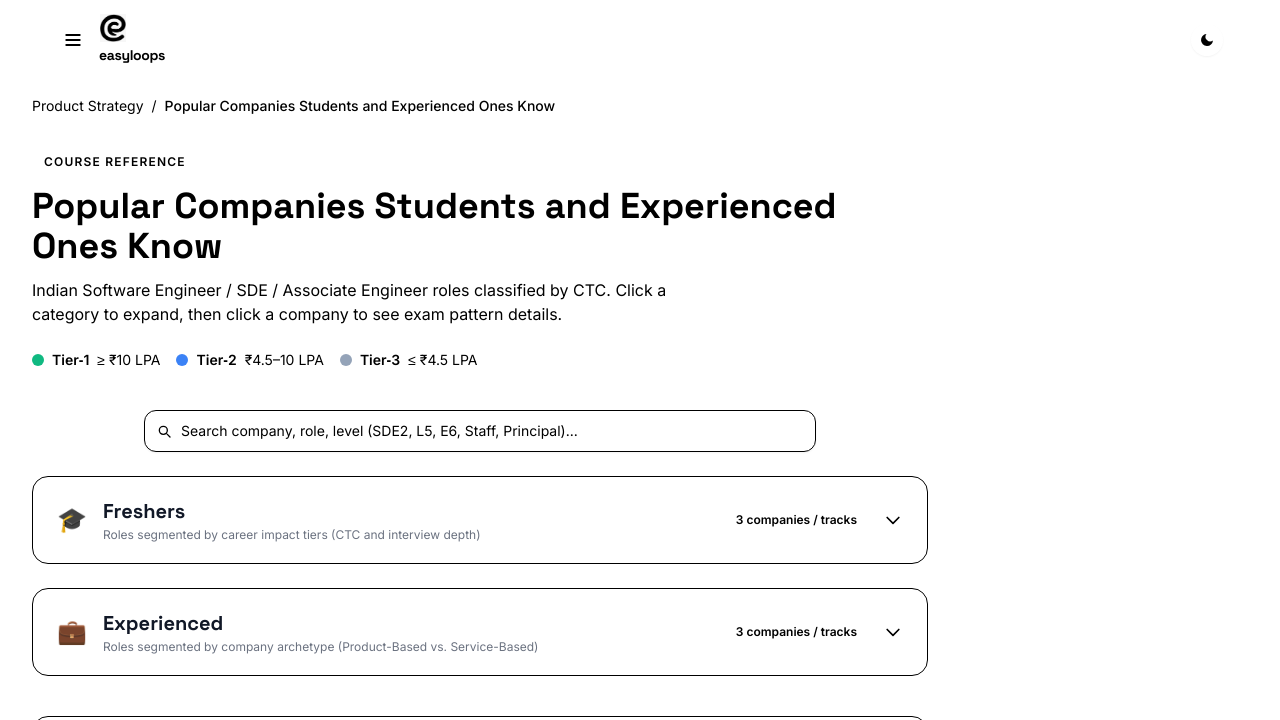
HiringTiersPage › matches designation shorthands in search and can clear the search query
Type "sde2" into the field at [480, 431], box x1=144 y1=410 x2=816 y2=452
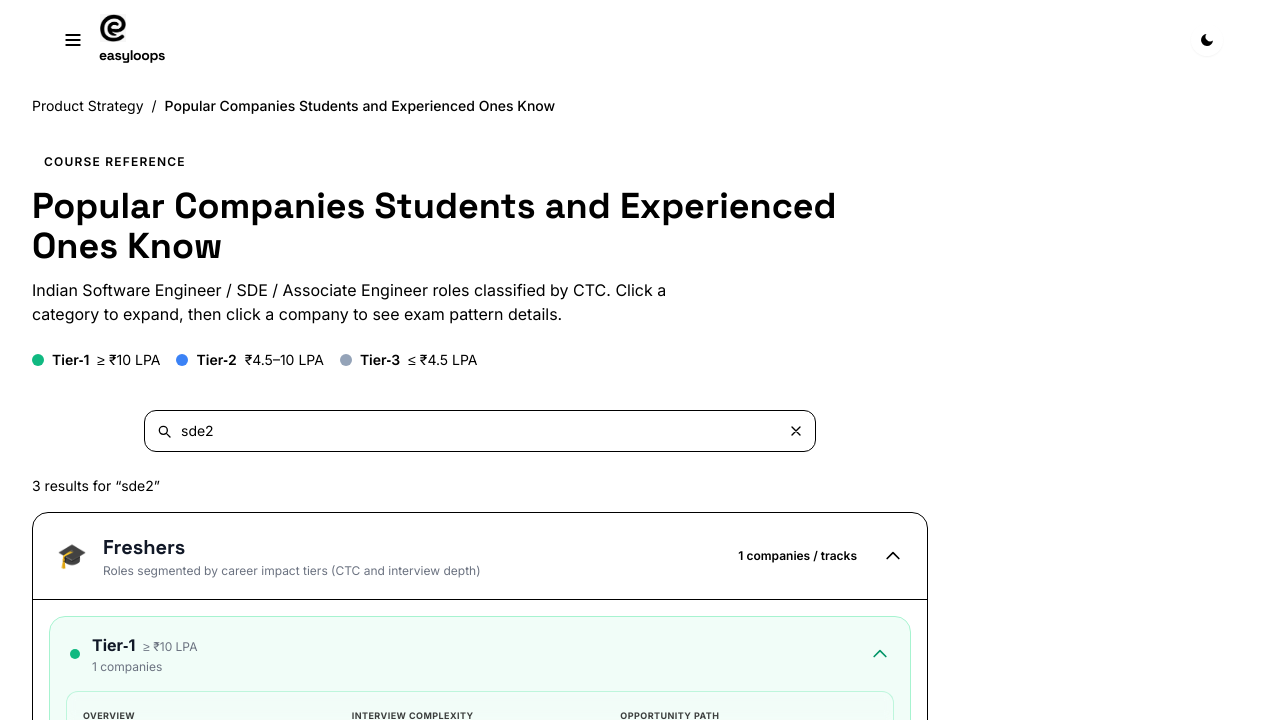
Click the button named "Clear search" at [796, 431], box x1=788 y1=410 x2=804 y2=452
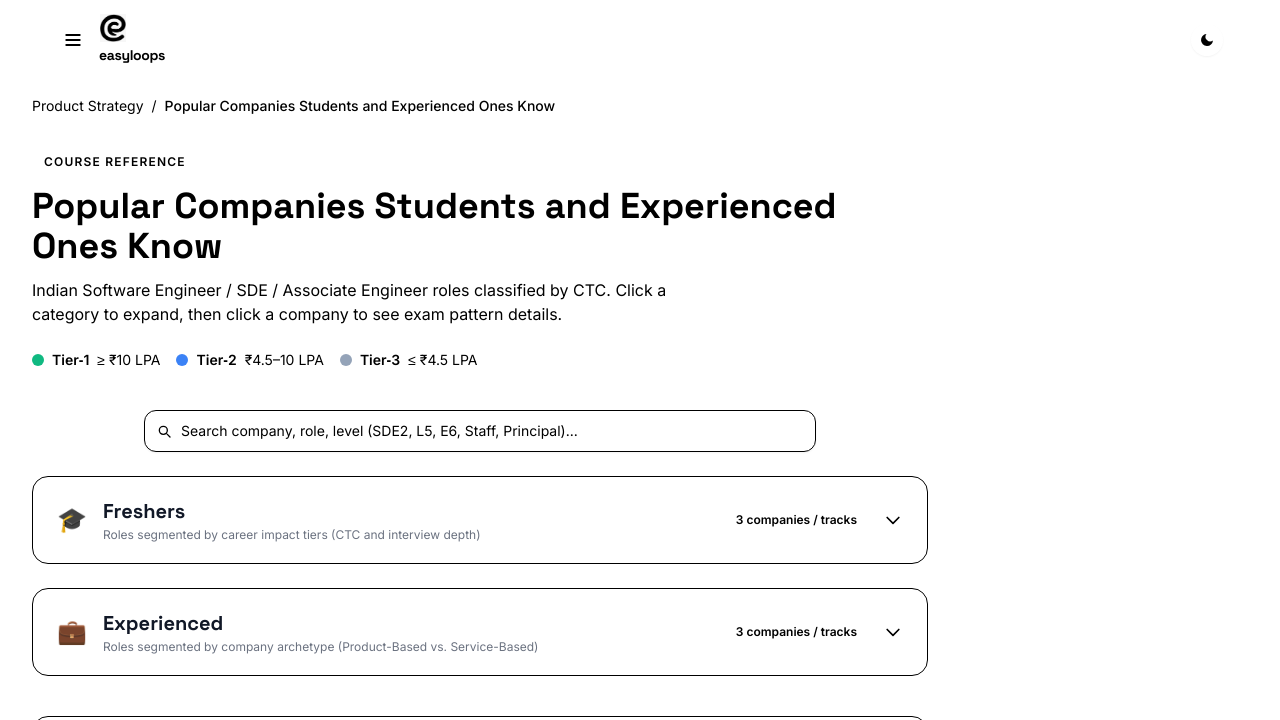
Result: the field is empty at x1=144 y1=410 x2=816 y2=452
